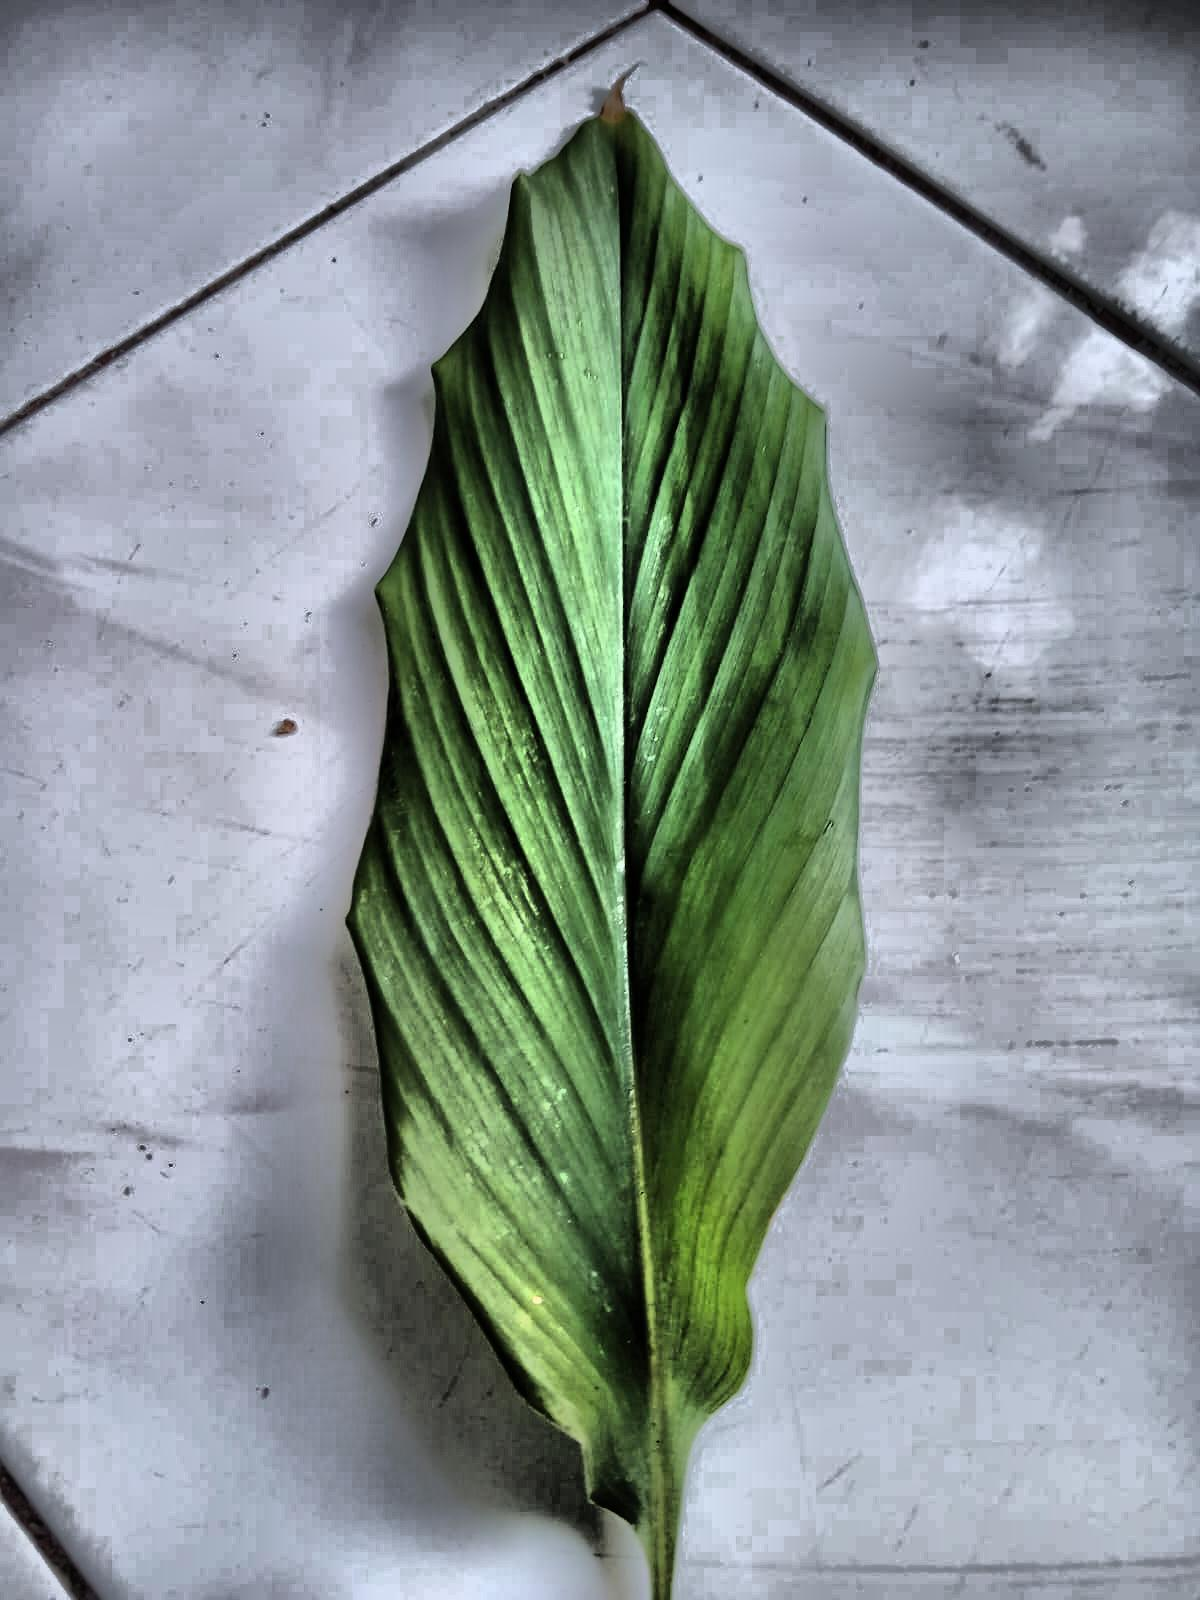daun kunyit: (349, 93, 875, 1599)
